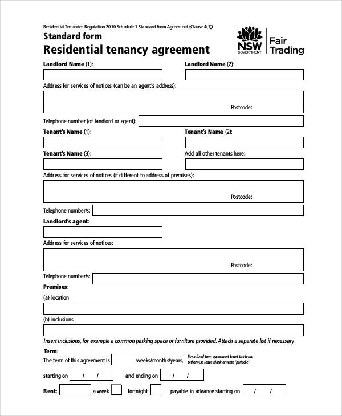checkbox: (110, 384, 123, 396), (150, 384, 162, 397)
textbox: (42, 89, 304, 115), (42, 247, 305, 271), (43, 179, 305, 203), (42, 300, 305, 315), (42, 323, 305, 337), (91, 203, 305, 218), (91, 272, 305, 286), (137, 113, 305, 128), (42, 67, 165, 83), (42, 134, 164, 149), (42, 157, 164, 171), (184, 135, 305, 149), (185, 67, 305, 81), (42, 225, 164, 238), (185, 157, 305, 170), (110, 353, 186, 366), (158, 368, 205, 383), (242, 383, 287, 398), (68, 368, 115, 381), (59, 383, 92, 396), (189, 368, 205, 382), (271, 383, 287, 397), (84, 367, 99, 381), (256, 383, 271, 397), (98, 368, 114, 381), (158, 368, 174, 381), (174, 368, 188, 382), (242, 383, 256, 397), (68, 368, 83, 381)
